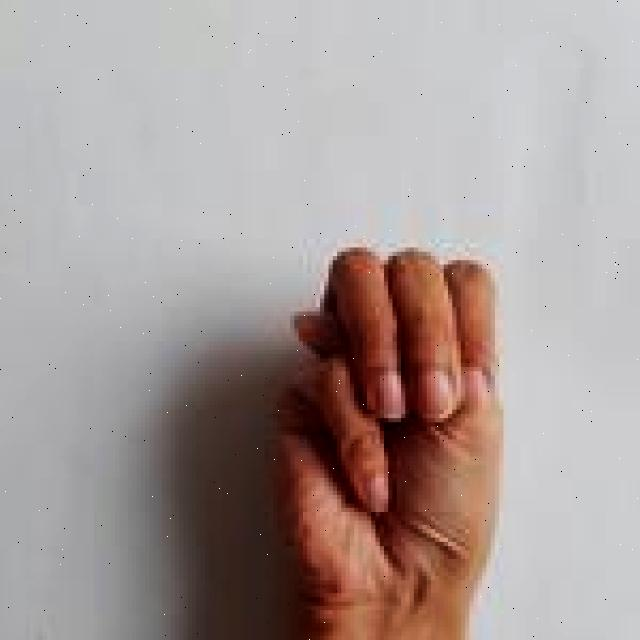M: (254, 236, 515, 640)
